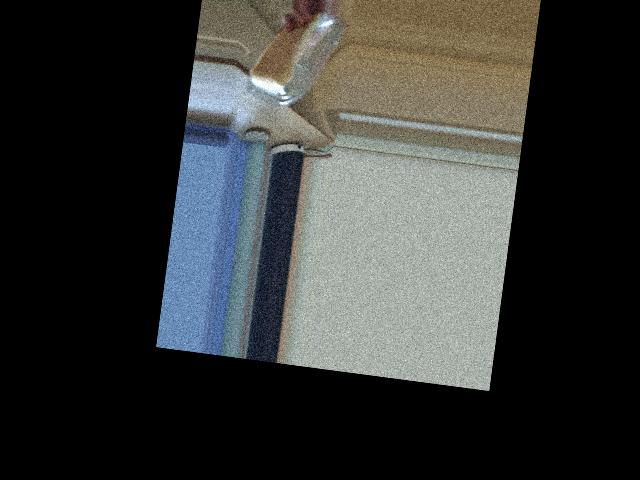cheese: (257, 39, 327, 102)
